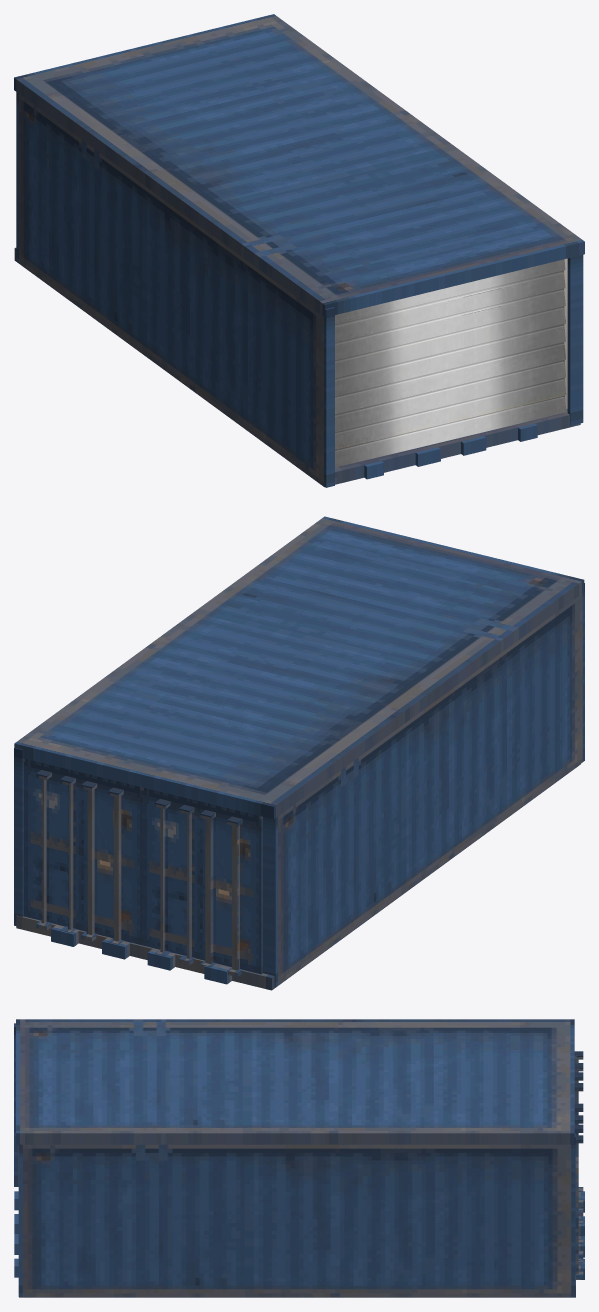
File: homespace_empty.glb
The picture shows the model from 3 angles, top to bottom: view 1: azimuth 30°, elevation 25°; view 2: azimuth 150°, elevation 25°; view 3: azimuth 270°, elevation 25°; orthographic projection. The views are drawn at different scales.
Visible parts, largest first — view 1: 38_3_door.001_38_3_door.001, chillroom.001; view 2: 38_3_door.001_38_3_door.001; view 3: 38_3_door.001_38_3_door.001.
Boxes of the visible parts, x1,y1,x2,y2 form: 38_3_door.001_38_3_door.001: (14, 14, 584, 487); chillroom.001: (335, 258, 567, 467); 38_3_door.001_38_3_door.001: (14, 516, 584, 990); 38_3_door.001_38_3_door.001: (14, 1019, 584, 1297).
Bounding box in the file's own units: 12.26 × 8.28 × 25.94.
8 materials, 8 textured.
